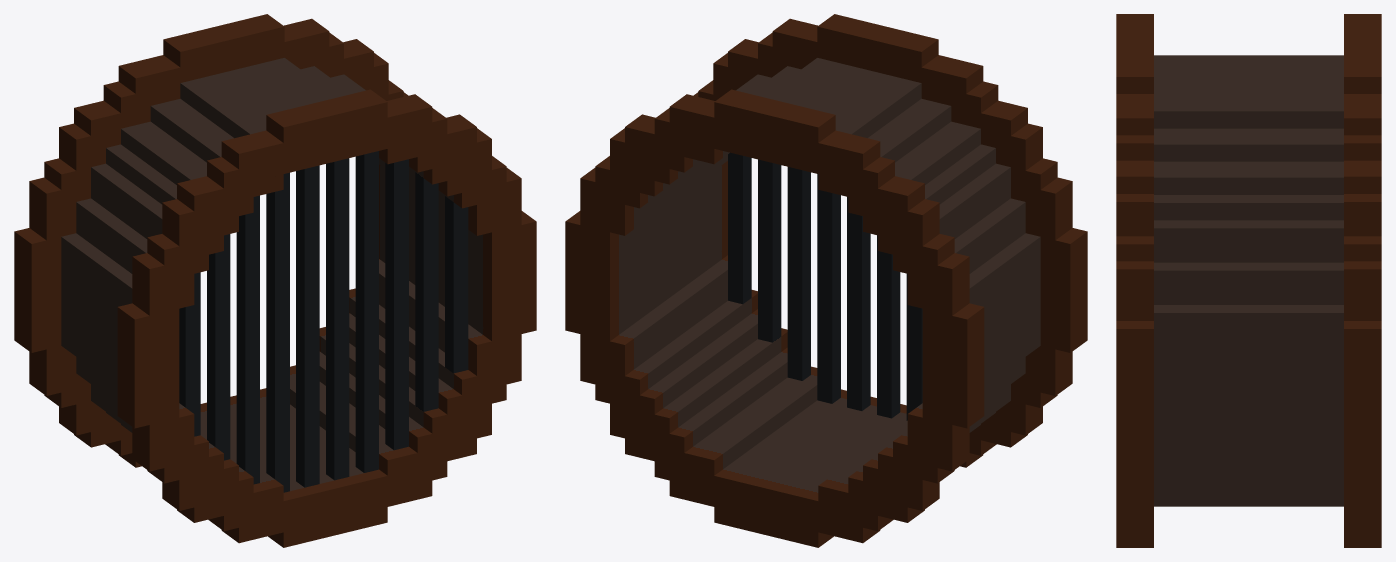
The model's file is okragle_kraty_rura.dae.
The picture shows the model from 3 angles, left to right: view 1: azimuth 30°, elevation 25°; view 2: azimuth 150°, elevation 25°; view 3: azimuth 270°, elevation 25°; orthographic projection. The views are drawn at different scales.
Visible parts, largest first — view 1: Content; view 2: Content; view 3: Content.
Boxes of the visible parts, left/top/right/bottom form: Content: left=14, top=14, right=536, bottom=547; Content: left=565, top=14, right=1087, bottom=547; Content: left=1116, top=14, right=1381, bottom=547.
Size of the model in its own units: 27 by 27 by 14.
1 material, 1 textured.
